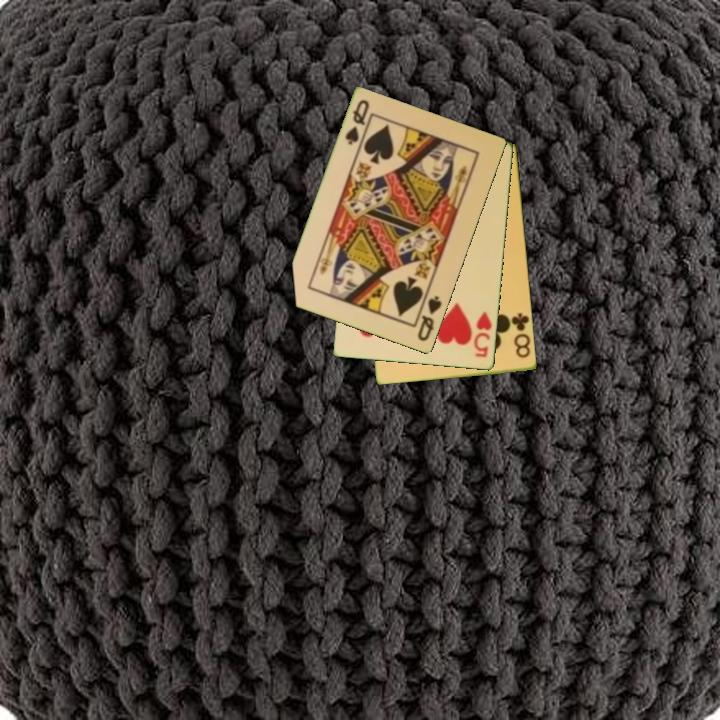5h: (471, 308, 495, 361)
8c: (506, 310, 533, 361)
Qs: (414, 292, 445, 345), (342, 96, 373, 148)
